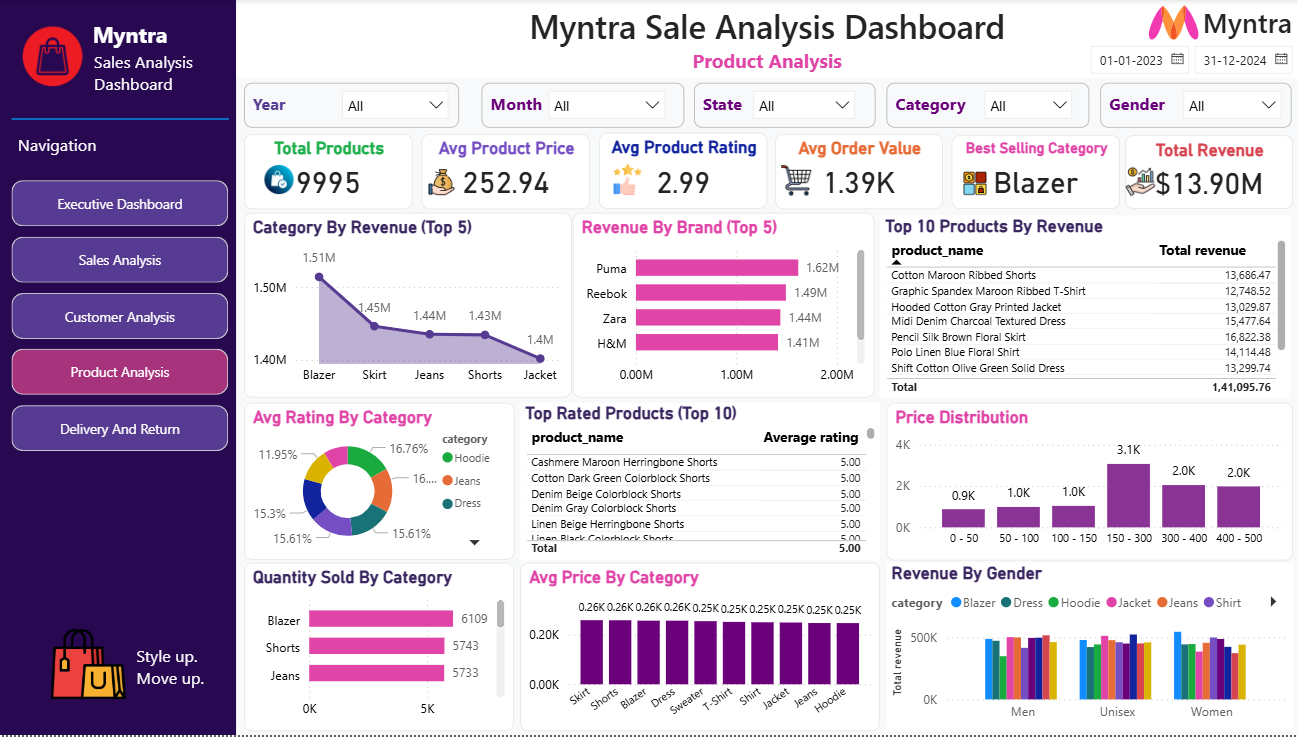

The page's visual inventory and layout, read from the dashboard file:
{"tool":"powerbi","page":{"name":"Product Analysis","canvas":[1280,720],"ordinal":3},"visuals":[{"type":"shape","box":[9.6,0,231.9,720.4],"z":0},{"type":"textbox","box":[242.1,0,1038.2,77],"z":1000},{"type":"textbox","box":[61.1,14.7,128.4,41.6],"z":2000},{"type":"textbox","box":[97.8,45.2,118.6,55],"z":3000},{"type":"textbox","box":[23.3,126.2,102.9,49.4],"z":4000},{"type":"textbox","box":[1182.9,0,97.4,45.3],"z":5000},{"type":"image","box":[1114.2,2.7,90.6,42.5],"z":6000},{"type":"slicer","fields":{"Values":["order_clean.order_date"]},"box":[1065.1,35.5,215.2,41.6],"z":7000},{"type":"card","title":"Total Products","fields":{"Values":["products_clean.Total products"]},"box":[249.5,132.1,165.1,73.4],"z":8000},{"type":"card","title":"Avg Product Price","fields":{"Values":["products_clean.avg product price"]},"box":[423.1,132.1,165.1,73.4],"z":9000},{"type":"card","title":"Avg Order Value","fields":{"Values":["order_clean.AOV"]},"box":[769.2,132.1,163.9,73.4],"z":10000},{"type":"card","title":"Avg Product Rating","fields":{"Values":["order_clean.Average rating"]},"box":[596.7,130.8,165.1,74.6],"z":11000},{"type":"card","title":"Best Selling Category","fields":{"Values":["products_clean.Best Selling Category"]},"box":[941.6,133.3,165.1,72.1],"z":12000},{"type":"card","title":"Total Revenue","fields":{"Values":["order_clean.Total revenue"]},"box":[1111.6,133.3,163.9,72.1],"z":13000},{"type":"lineChart","title":"Category By Revenue (Top 5)","fields":{"Category":["products_clean.category"],"Y":["order_clean.Total revenue"]},"box":[249.4,209.5,320.7,181],"z":14000},{"type":"clusteredBarChart","title":"Revenue By Brand (Top 5)","fields":{"Category":["products_clean.company_name"],"Y":["order_clean.Total revenue"]},"box":[571.6,209.5,295.1,181],"z":15000},{"type":"tableEx","title":"Top 10 Products By Revenue","fields":{"Values":["products_clean.product_name","order_clean.Total revenue"]},"box":[872.3,211,402,179.6],"z":16000},{"type":"donutChart","title":"Avg Rating By Category","fields":{"Y":["order_clean.Average rating"],"Category":["products_clean.category"]},"box":[249.4,394.8,265.1,153.9],"z":17000},{"type":"tableEx","title":"Top Rated Products (Top 10) ","fields":{"Values":["products_clean.product_name","order_clean.Average rating"]},"box":[519.7,395,352.2,154.1],"z":18000},{"type":"clusteredColumnChart","title":"Price Distribution","fields":{"Y":["CountNonNull(products_clean.product_id)"],"Category":["products_clean.Price Range"]},"box":[878,395,397.4,154.1],"z":19000},{"type":"image","box":[1111.6,162.6,29.3,31.8],"z":20000},{"type":"image","box":[262.9,161.4,41.6,30.6],"z":21000},{"type":"image","box":[769.2,162.6,40.4,29.3],"z":22000},{"type":"image","box":[604.1,161.4,41.6,30.6],"z":23000},{"type":"shape","box":[22,102.7,212.8,29.3],"z":24000},{"type":"textbox","box":[689.7,81.9,177.3,44],"z":25000},{"type":"textbox","box":[481.8,81.9,198.1,44],"z":26000},{"type":"textbox","box":[878,81.9,198.1,44],"z":27000},{"type":"textbox","box":[1087.1,81.9,187.1,44],"z":28000},{"type":"slicer","fields":{"Values":["customer_clean.Gender"]},"box":[1158,79.5,116.2,42.8],"z":29000},{"type":"pageNavigator","box":[22,177.3,212.8,267.8],"z":30000},{"type":"slicer","fields":{"Values":["products_clean.category"]},"box":[963.6,79.5,106.4,40.4],"z":31000},{"type":"slicer","fields":{"Values":["customer_clean.state"]},"box":[737.4,79.5,119.8,50.1],"z":32000},{"type":"slicer","fields":{"Values":["Date_table.Month"]},"box":[536.8,79.5,134.5,50.1],"z":33000},{"type":"textbox","box":[249.5,81.9,210.3,44],"z":34000},{"type":"slicer","fields":{"Values":["Date_table.Year"]},"box":[335.1,79.5,124.7,50.1],"z":35000},{"type":"textbox","box":[139.4,626.1,88,94.2],"z":36000},{"type":"image","box":[9.8,26.9,105.2,58.7],"z":37000},{"type":"image","box":[24.5,611.4,145.5,78.3],"z":38000},{"type":"clusteredBarChart","title":"Quantity Sold By Category","fields":{"Y":["Sum(order_clean.quantity)"],"Category":["products_clean.category"]},"box":[249.5,551.5,264.1,165.1],"z":39000},{"type":"clusteredColumnChart","title":"Avg Price By Category","fields":{"Y":["products_clean.avg product price"],"Category":["products_clean.category"]},"box":[519.7,551.5,352.2,165.1],"z":40000},{"type":"clusteredColumnChart","title":"Revenue By Gender","fields":{"Category":["products_clean.gender"],"Y":["order_clean.Total revenue"],"Series":["products_clean.category"]},"box":[878,551.5,397.4,163.9],"z":41000},{"type":"image","box":[423.1,166.3,39.1,25.7],"z":42000},{"type":"image","box":[951.4,168.8,25.7,23.2],"z":43000}]}

Visuals, with their boxes in screenshot pixels (x1, y1, x2, y2), scaled from the page's 1280x720 canvas onto the 1297x737 screenshot:
shape: bbox(10, 0, 245, 736)
textbox: bbox(245, 0, 1296, 79)
textbox: bbox(62, 15, 192, 58)
textbox: bbox(99, 46, 219, 103)
textbox: bbox(24, 129, 128, 180)
textbox: bbox(1199, 0, 1296, 46)
image: bbox(1129, 3, 1221, 46)
slicer - order_clean.order_date: bbox(1079, 36, 1296, 79)
"Total Products" card: bbox(253, 135, 420, 210)
"Avg Product Price" card: bbox(429, 135, 596, 210)
"Avg Order Value" card: bbox(779, 135, 945, 210)
"Avg Product Rating" card: bbox(605, 134, 772, 210)
"Best Selling Category" card: bbox(954, 136, 1121, 210)
"Total Revenue" card: bbox(1126, 136, 1292, 210)
"Category By Revenue (Top 5)" lineChart: bbox(253, 214, 578, 400)
"Revenue By Brand (Top 5)" clusteredBarChart: bbox(579, 214, 878, 400)
"Top 10 Products By Revenue" tableEx: bbox(884, 216, 1291, 400)
"Avg Rating By Category" donutChart: bbox(253, 404, 521, 562)
"Top Rated Products (Top 10) " tableEx: bbox(527, 404, 883, 562)
"Price Distribution" clusteredColumnChart: bbox(890, 404, 1292, 562)
image: bbox(1126, 166, 1156, 199)
image: bbox(266, 165, 309, 197)
image: bbox(779, 166, 820, 196)
image: bbox(612, 165, 654, 197)
shape: bbox(22, 105, 238, 135)
textbox: bbox(699, 84, 879, 129)
textbox: bbox(488, 84, 689, 129)
textbox: bbox(890, 84, 1090, 129)
textbox: bbox(1102, 84, 1291, 129)
slicer - customer_clean.Gender: bbox(1173, 81, 1291, 125)
pageNavigator: bbox(22, 181, 238, 456)
slicer - products_clean.category: bbox(976, 81, 1084, 123)
slicer - customer_clean.state: bbox(747, 81, 869, 133)
slicer - Date_table.Month: bbox(544, 81, 680, 133)
textbox: bbox(253, 84, 466, 129)
slicer - Date_table.Year: bbox(340, 81, 466, 133)
textbox: bbox(141, 641, 230, 736)
image: bbox(10, 28, 117, 88)
image: bbox(25, 626, 172, 706)
"Quantity Sold By Category" clusteredBarChart: bbox(253, 565, 520, 734)
"Avg Price By Category" clusteredColumnChart: bbox(527, 565, 883, 734)
"Revenue By Gender" clusteredColumnChart: bbox(890, 565, 1292, 732)
image: bbox(429, 170, 468, 197)
image: bbox(964, 173, 990, 197)
